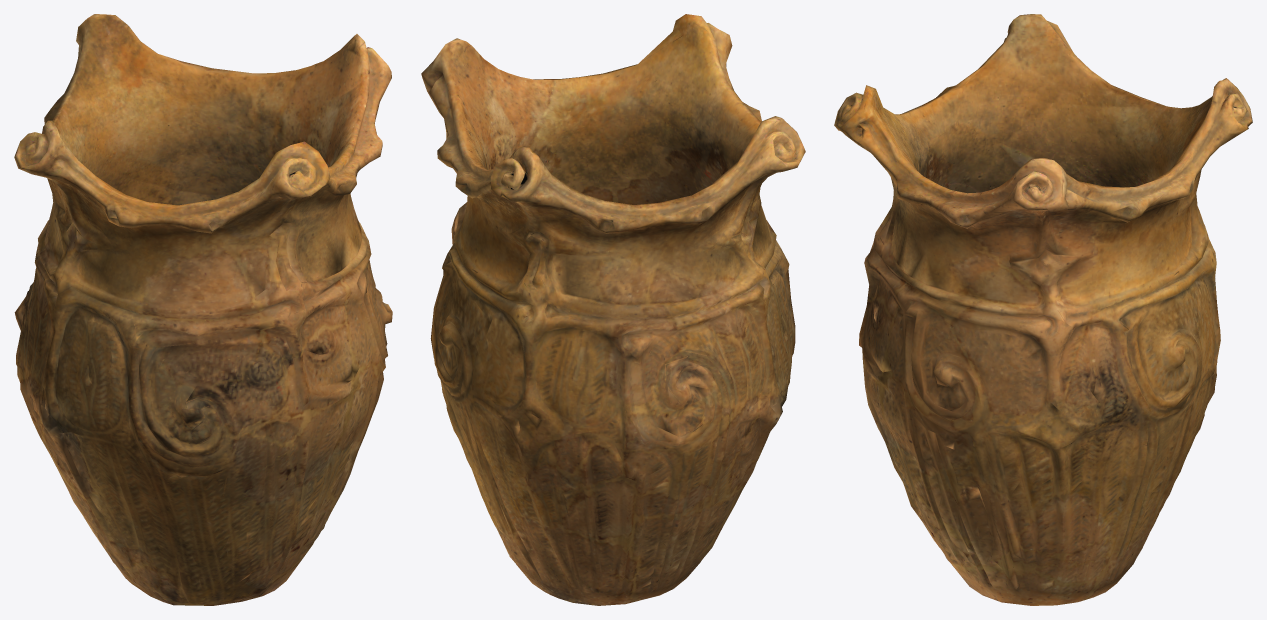
The picture shows the model from 3 angles, left to right: view 1: azimuth 30°, elevation 25°; view 2: azimuth 150°, elevation 25°; view 3: azimuth 270°, elevation 25°; orthographic projection.
Parts seen in each view (by area): view 1: UD0013_low; view 2: UD0013_low; view 3: UD0013_low.
Part boxes in pixels (left/top/right/bottom): UD0013_low: left=14, top=14, right=392, bottom=605; UD0013_low: left=421, top=14, right=805, bottom=605; UD0013_low: left=834, top=14, right=1252, bottom=605.
Bounding box in the file's own units: 245 × 314 × 244.
1 material, 1 textured.
